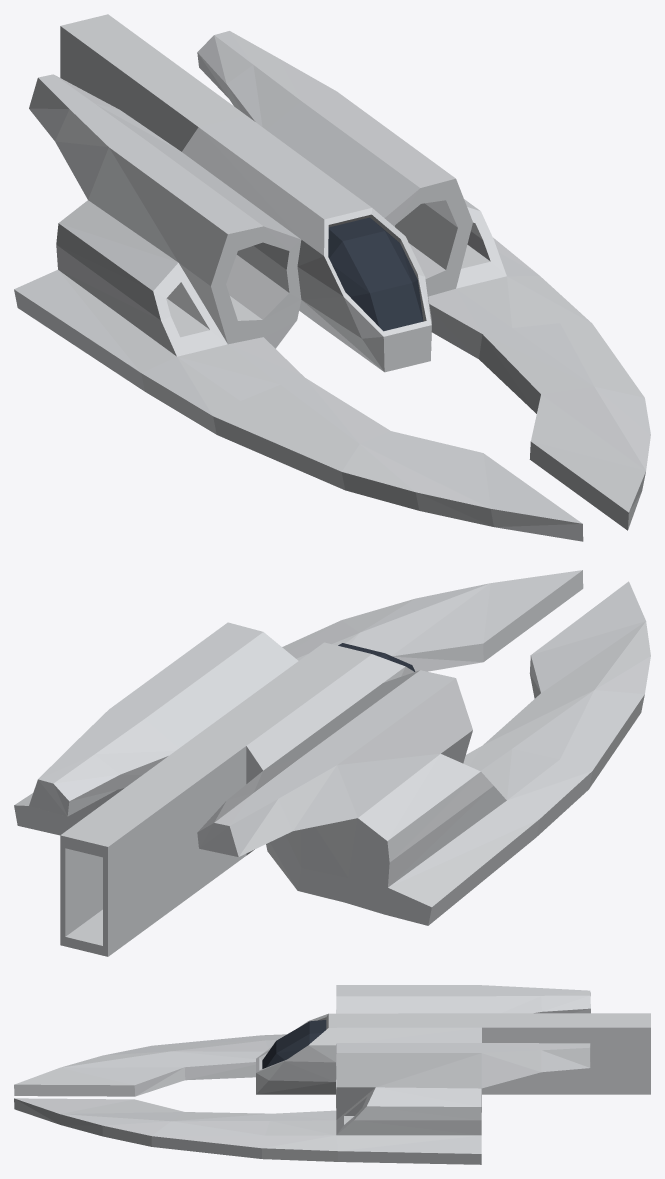
File: ship1.glb
3 renders of one model, top to bottom at view 1: azimuth 30°, elevation 25°; view 2: azimuth 150°, elevation 25°; view 3: azimuth 270°, elevation 25°, orthographic. The views are drawn at different scales.
Parts seen in each view (by area): view 1: ship; view 2: ship; view 3: ship.
Boxes of the visible parts, x1,y1,x2,y2 form: ship: (14, 14, 650, 541); ship: (14, 570, 650, 956); ship: (14, 985, 650, 1164).
Size of the model in its own units: 3.37 by 1.07 by 7.28.
